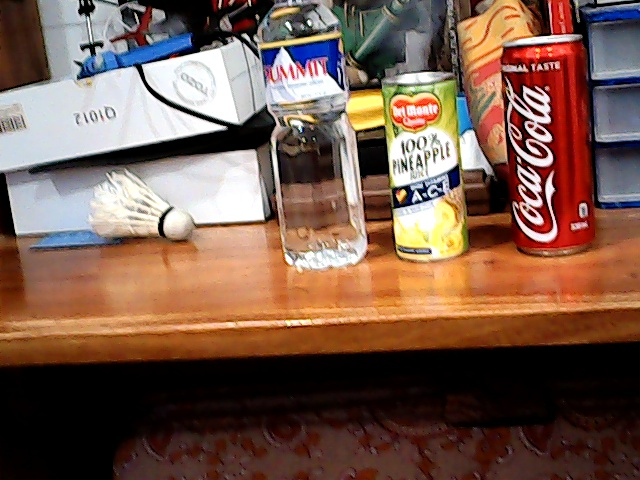Cola: (490, 20, 605, 266)
Pine Juice: (375, 64, 477, 268)
Summit Water: (257, 1, 371, 276)
